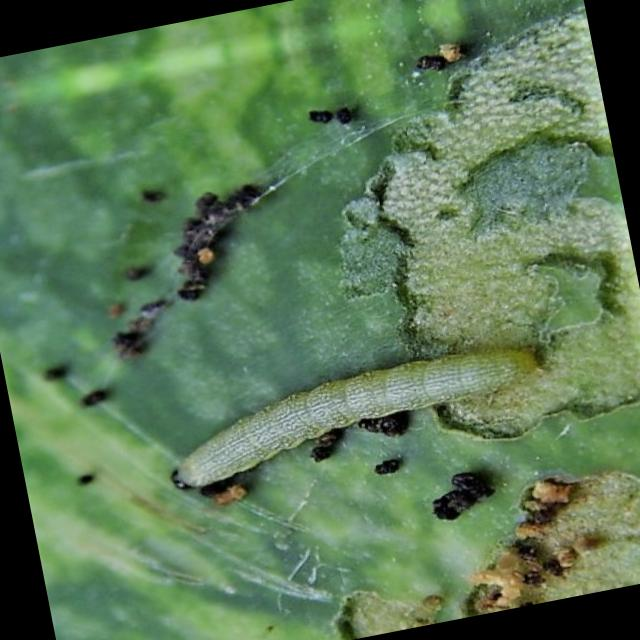Armyworm: (130, 301, 562, 512)
